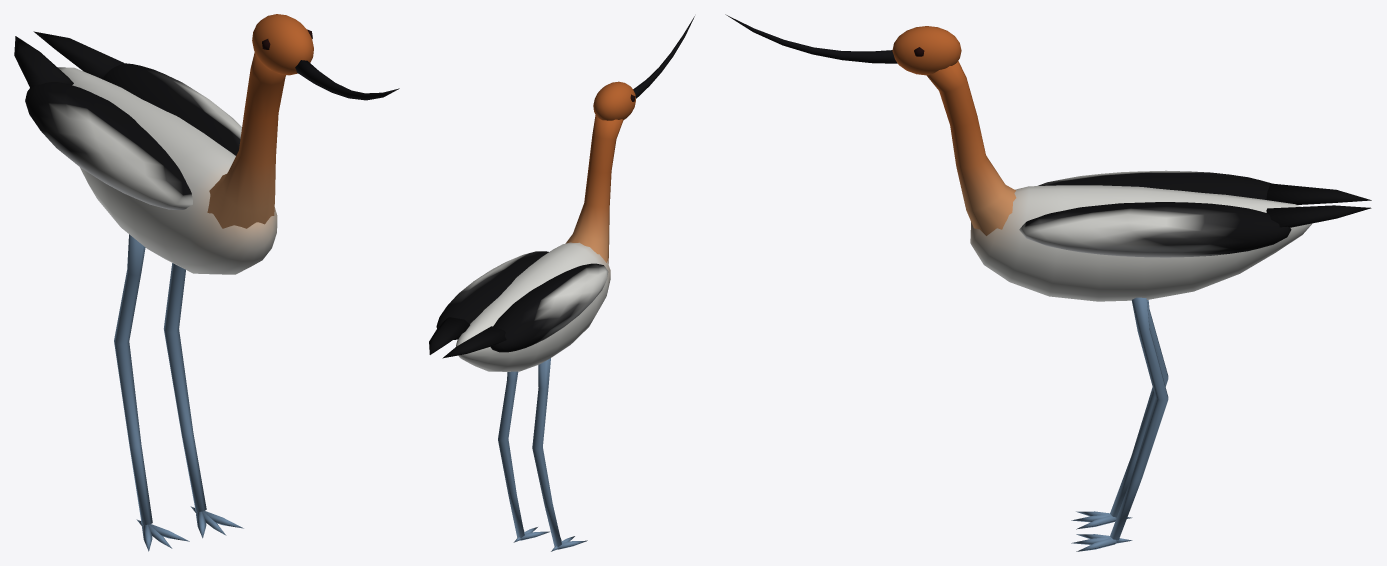
The model's file is AmericanAvocet.fbx.
The picture shows the model from 3 angles, left to right: view 1: azimuth 30°, elevation 25°; view 2: azimuth 150°, elevation 25°; view 3: azimuth 270°, elevation 25°; orthographic projection. The views are drawn at different scales.
Parts seen in each view (by area): view 1: AmericanAvocet; view 2: AmericanAvocet; view 3: AmericanAvocet.
Boxes of the visible parts, x1,y1,x2,y2 form: AmericanAvocet: (14,14,399,551); AmericanAvocet: (429,16,694,551); AmericanAvocet: (725,14,1371,551).
Bounding box in the file's own units: 0.2 × 0.779 × 0.88.
